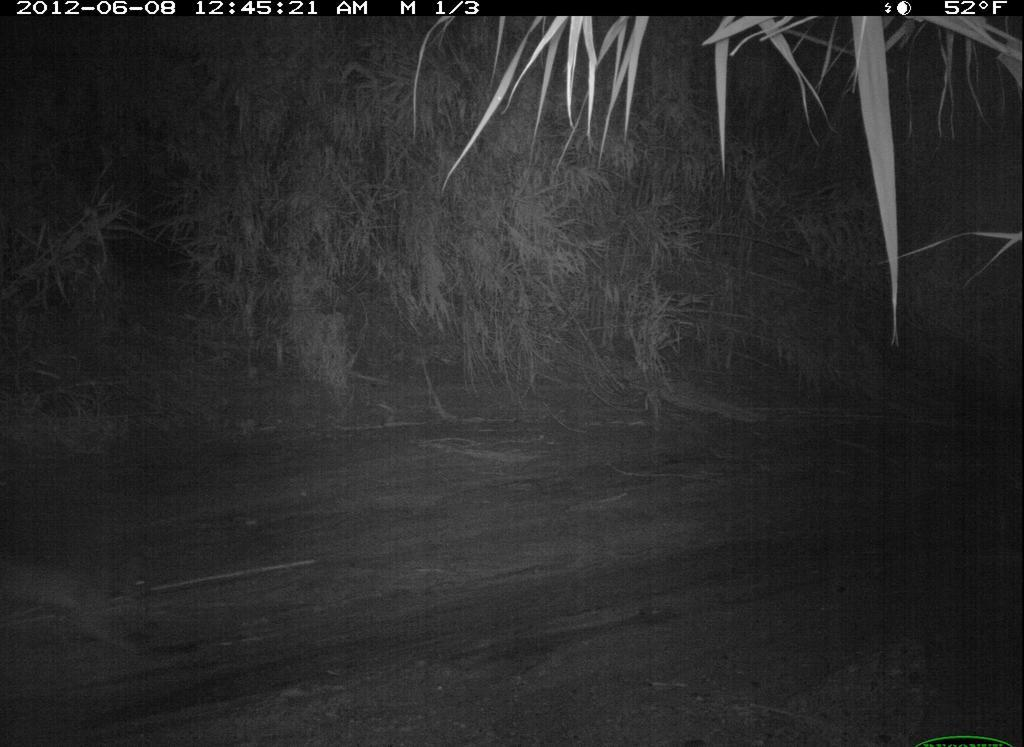bobcat: (2, 546, 167, 669)
